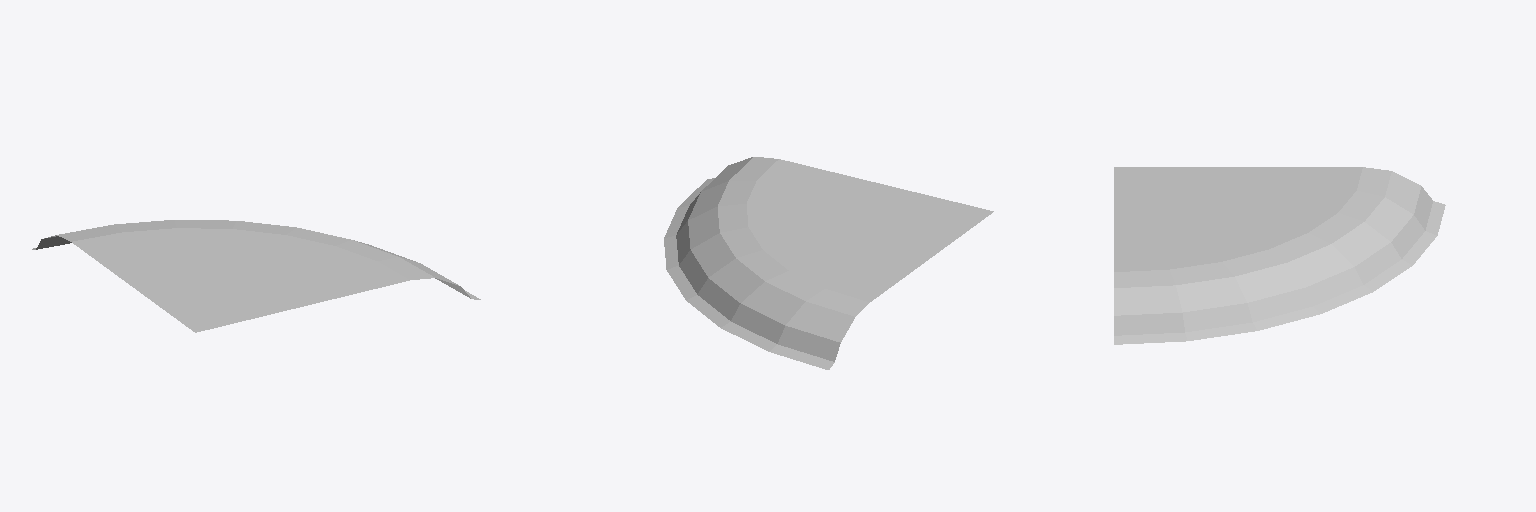
Rendered from Track_Normal_Curve_Inner_4x4.obj.
The picture shows the model from 3 angles: view 1: azimuth 30°, elevation 25°; view 2: azimuth 150°, elevation 25°; view 3: azimuth 270°, elevation 25°; orthographic projection.
Parts seen in each view (by area): view 1: object1; view 2: object1; view 3: object1.
Boxes of the visible parts, <box> form: object1: <box>32,220,480,332</box>; object1: <box>664,157,993,369</box>; object1: <box>1114,167,1445,344</box>.
Bounding box in the file's own units: 4 × 0.5 × 4.